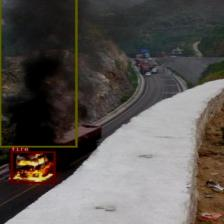fire: (10, 151, 55, 183)
smoke: (0, 0, 76, 147)
